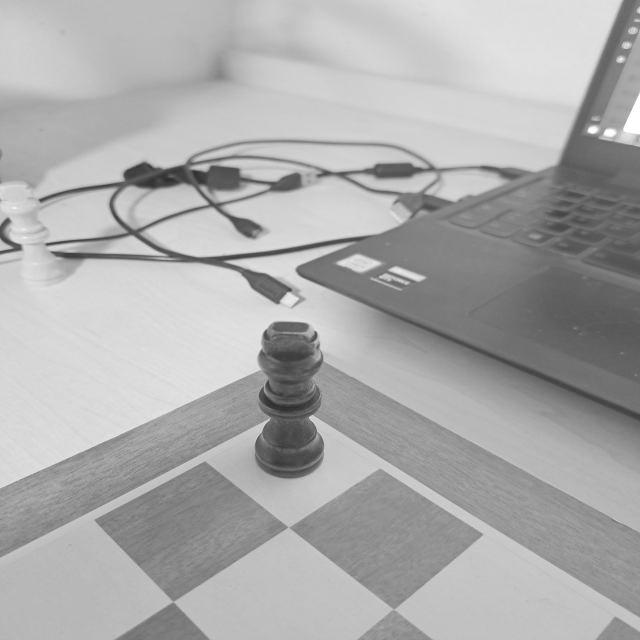chess-table-corners: (240, 395, 360, 447)
